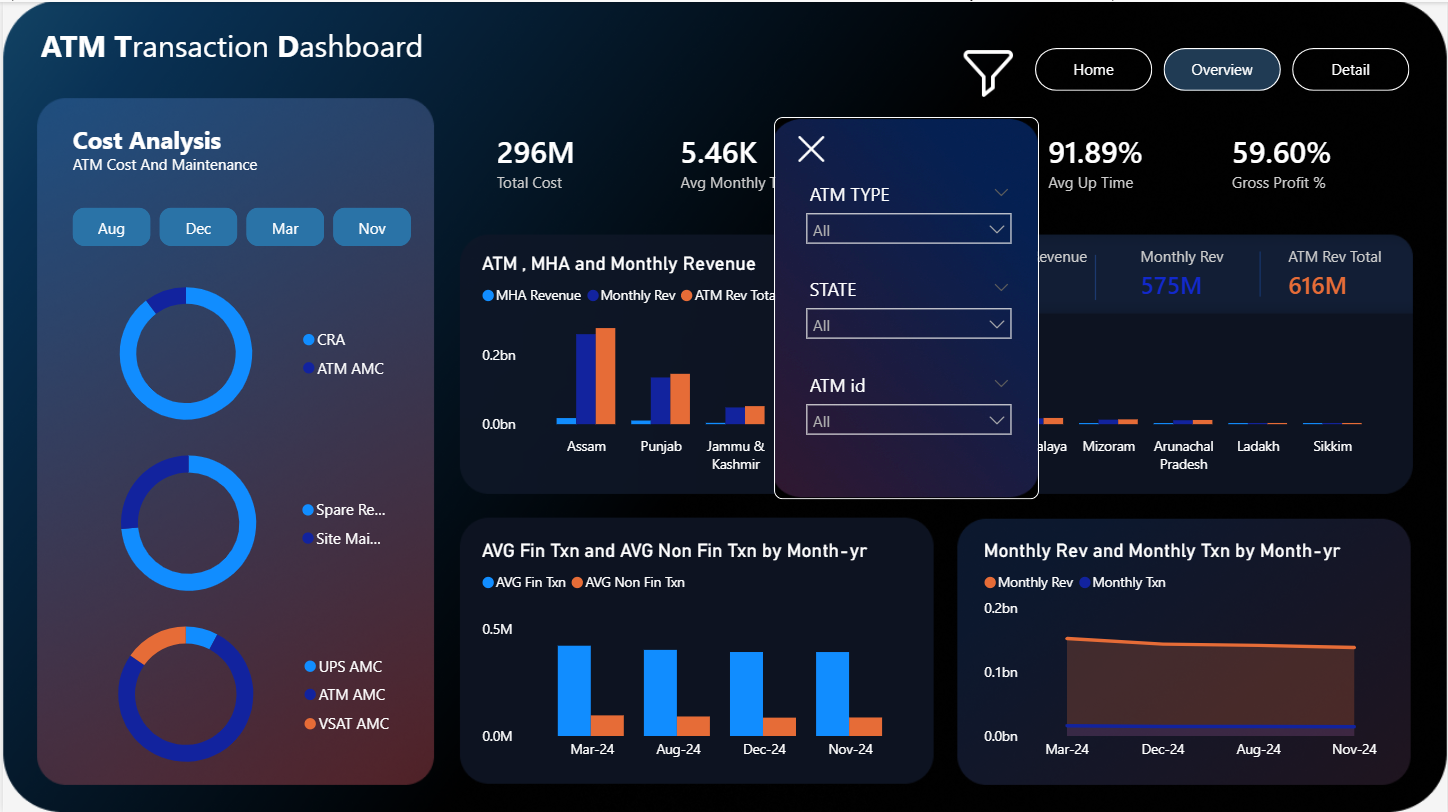

What the dashboard file says about the page in this screenshot:
{"tool":"powerbi","page":{"name":"Overview","canvas":[1280,720],"ordinal":1},"visuals":[{"type":"image","box":[683.9,102.2,234.5,339.3],"z":0,"group":"g1"},{"type":"donutChart","fields":{"Y":["Sum(Dataset.CRA)","Sum(Dataset.ATM AMC)"]},"box":[54,233.2,298.4,156.8],"z":0},{"type":"slicer","fields":{"Values":["Dataset.ATM TYPE"]},"box":[702.2,154.6,201.8,69.4],"z":1000,"group":"g1"},{"type":"donutChart","fields":{"Y":["Sum(Dataset.Spare Rep.(UPS))","Sum(Dataset.Site Maint (Non Asset))"]},"box":[59.1,381.9,297.3,159.9],"z":1000},{"type":"slicer","fields":{"Values":["Dataset.STATE"]},"box":[702.2,238.5,201.8,70.7],"z":2000,"group":"g1"},{"type":"donutChart","fields":{"Y":["Sum(Dataset.UPS AMC)","Sum(Dataset.ATM AMC)","Sum(Dataset.VSAT AMC)"]},"box":[51.9,533.6,304.5,159.9],"z":2000},{"type":"slicer","fields":{"Values":["Dataset.ATM id"]},"box":[702.2,323.6,201.8,69.4],"z":3000,"group":"g1"},{"type":"clusteredColumnChart","title":"ATM , MHA and Monthly Revenue","fields":{"Y":["Sum(Dataset.MHA Revenue)","Sum(Dataset.Monthly Rev)","Sum(Dataset.ATM Rev Total)"],"Category":["Dataset.STATE"]},"box":[419.5,222,817.7,203.7],"z":3000},{"type":"image","box":[702.5,118.8,29.4,22.5],"z":3500,"group":"g1"},{"type":"clusteredColumnChart","fields":{"Y":["Sum(Dataset.AVG Fin Txn)","Sum(Dataset.AVG Non Fin Txn)"],"Category":["Dataset.Month-yr"]},"box":[419.5,476.6,398.2,204.7],"z":4000},{"type":"areaChart","fields":{"Y":["Sum(Dataset.Monthly Rev)","Sum(Dataset.Monthly Txn)"],"Category":["Dataset.Month-yr"]},"box":[864.5,476.6,372.7,204.7],"z":5000},{"type":"advancedSlicerVisual","fields":{"Values":["Dataset.Short_Month"]},"box":[57,177.2,311.6,44.8],"z":6000},{"type":"textbox","box":[57,101.8,311.6,60.1],"z":7000},{"type":"cardVisual","fields":{"Data":["Sum(Dataset. Total Cost  )","Avg(Dataset.Monthly Txn)","Avg(Dataset.Monthly Rev)","Avg(Dataset.Up Time)","Dataset.Gross Profit Percentage"]},"box":[408.3,91.6,841.1,99.8],"z":8000},{"type":"cardVisual","fields":{"Data":["Sum(Dataset.MHA Revenue)","Sum(Dataset.Monthly Rev)","Sum(Dataset.ATM Rev Total)"]},"box":[848.2,191.4,421.6,96.7],"z":9000},{"type":"pageNavigator","box":[915.4,40.7,334,38.7],"z":10000},{"type":"textbox","box":[28.5,15.3,379.8,49.9],"z":11000},{"type":"group","id":"g1","title":"Slisers","box":[683.9,102.2,234.5,339.3],"z":12000},{"type":"image","box":[847.7,22.3,52.4,79.9],"z":13000}]}

Visuals, with their boxes in screenshot pixels (x1, y1, x2, y2), scaled from the page's 1280x720 canvas onto the 1448x812 screenshot:
image: 774:115:1039:498
donutChart - Sum(Dataset.CRA) x Sum(Dataset.ATM AMC): 61:263:399:440
slicer - Dataset.ATM TYPE: 794:174:1023:253
donutChart - Sum(Dataset.Spare Rep.(UPS)) x Sum(Dataset.Site Maint (Non Asset)): 67:431:403:611
slicer - Dataset.STATE: 794:269:1023:349
donutChart - Sum(Dataset.UPS AMC) x Sum(Dataset.ATM AMC): 59:602:403:782
slicer - Dataset.ATM id: 794:365:1023:443
"ATM , MHA and Monthly Revenue" clusteredColumnChart: 475:250:1400:480
image: 795:134:828:159
clusteredColumnChart - Sum(Dataset.AVG Fin Txn) x Sum(Dataset.AVG Non Fin Txn): 475:537:925:768
areaChart - Sum(Dataset.Monthly Rev) x Sum(Dataset.Monthly Txn): 978:537:1400:768
advancedSlicerVisual - Dataset.Short_Month: 64:200:417:250
textbox: 64:115:417:183
cardVisual - Sum(Dataset. Total Cost  ) x Avg(Dataset.Monthly Txn): 462:103:1413:216
cardVisual - Sum(Dataset.MHA Revenue) x Sum(Dataset.Monthly Rev): 960:216:1436:325
pageNavigator: 1036:46:1413:90
textbox: 32:17:462:74
"Slisers" group: 774:115:1039:498
image: 959:25:1018:115
